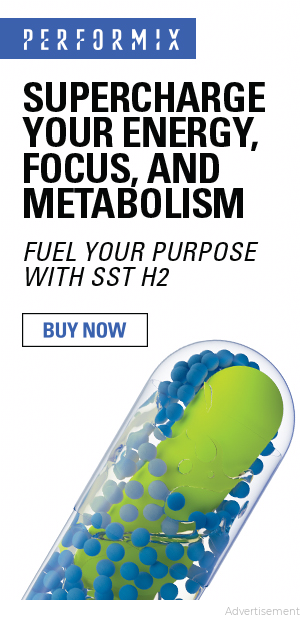fake_button: (12, 309, 162, 357)
